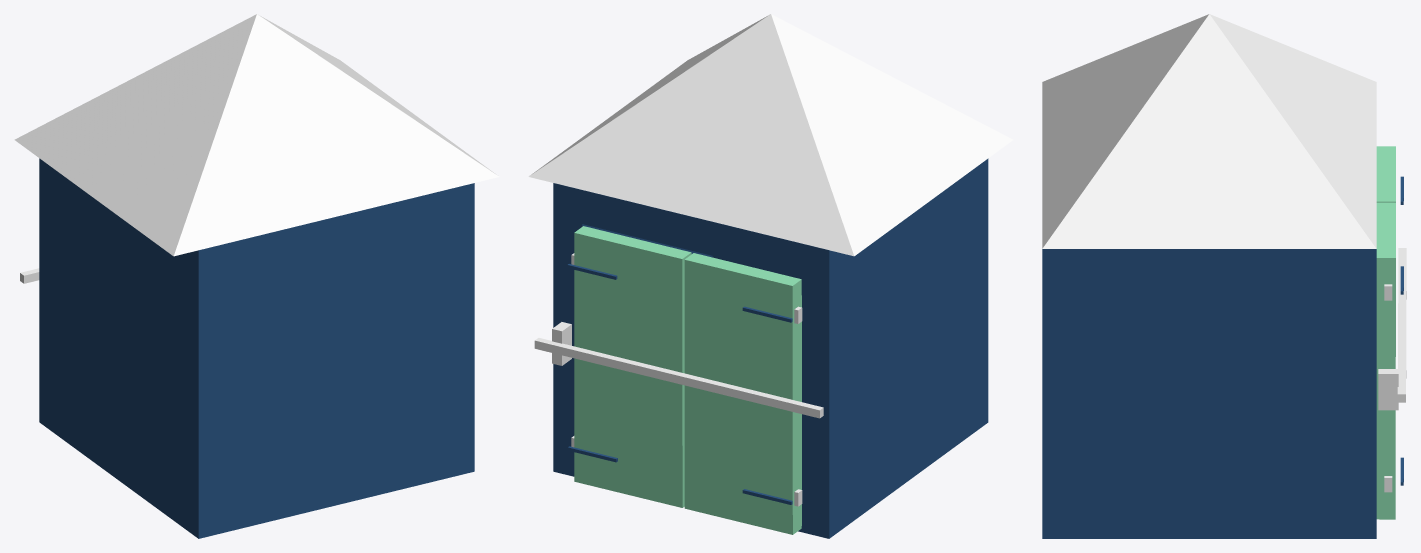
The model's file is HUT.FBX.
3 renders of one model, left to right at view 1: azimuth 30°, elevation 25°; view 2: azimuth 150°, elevation 25°; view 3: azimuth 270°, elevation 25°, orthographic. The views are drawn at different scales.
Parts seen in each view (by area): view 1: Box001, Pyramid001; view 2: Box001, Pyramid001, Box003, Box002, Box004, Box005; view 3: Box001, Pyramid001, Box002, Box004, Box003, Box005.
Part boxes in pixels (x1,y1,x2,y2): Box001: [39, 158, 474, 538]; Pyramid001: [14, 14, 499, 256]; Box001: [553, 158, 988, 538]; Pyramid001: [528, 14, 1013, 256]; Box003: [684, 253, 801, 534]; Box002: [574, 226, 691, 507]; Box004: [534, 338, 823, 418]; Box005: [552, 322, 571, 365]; Box001: [1042, 249, 1376, 538]; Pyramid001: [1042, 14, 1376, 248]; Box002: [1376, 202, 1395, 519]; Box004: [1397, 248, 1406, 402]; Box003: [1376, 146, 1395, 202]; Box005: [1378, 369, 1398, 410].
Bounding box in the file's own units: 35.45 × 44.99 × 32.7.
